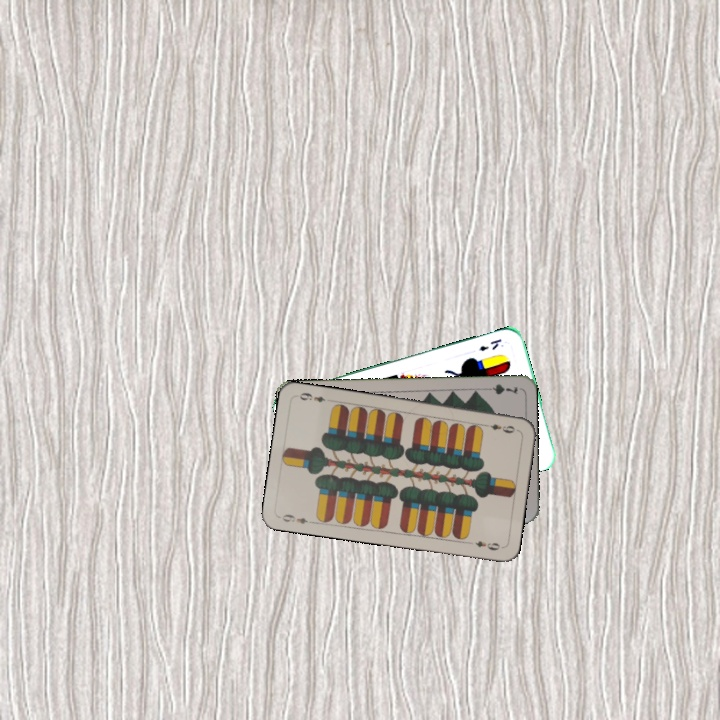E9: (278, 510, 316, 527), (480, 420, 520, 436)
EK: (475, 335, 504, 354)
G7: (480, 380, 520, 397)
